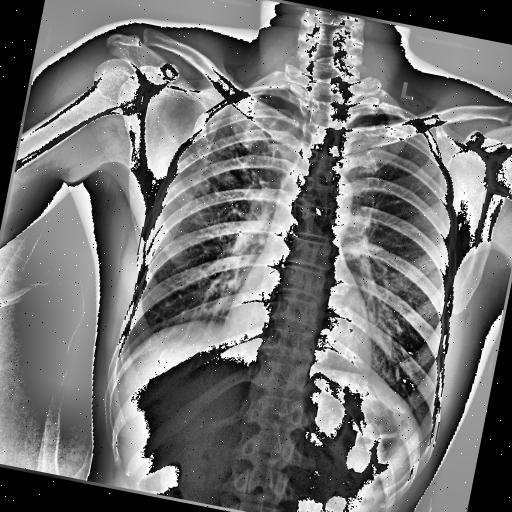13- Pulmonary fibrosis: (174, 100, 276, 218), (178, 112, 268, 219), (183, 110, 273, 216)
